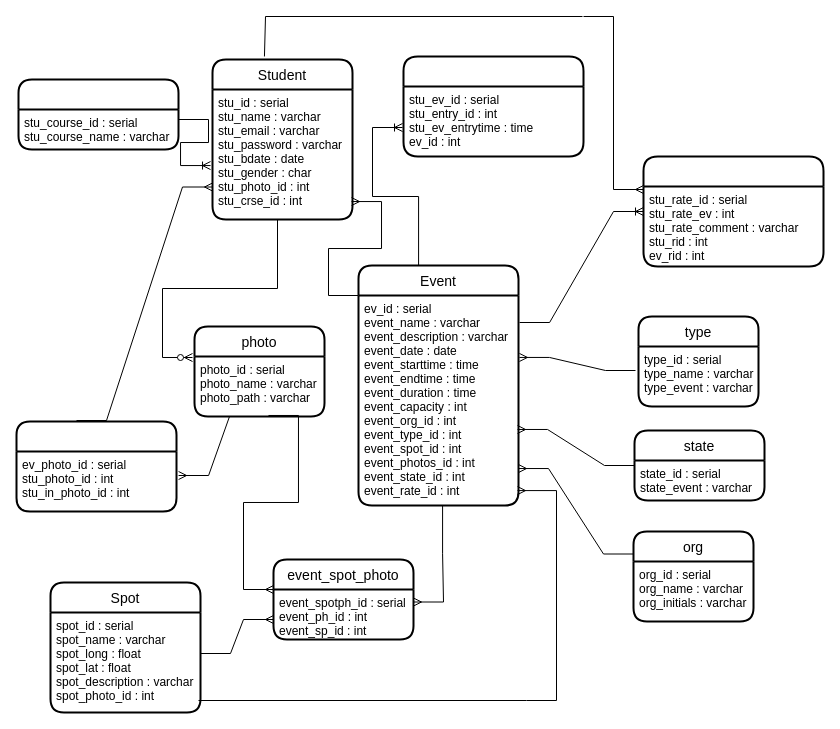
This 840x729 diagram has some shape labels left out. Each missing label, with the box of its shape:
student_course: (17, 78, 179, 150)
student_event: (402, 55, 584, 157)
student_event_photo: (15, 420, 177, 512)
student_rate: (642, 155, 824, 267)
